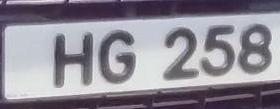2: (158, 21, 201, 86)
5: (199, 19, 234, 80)
8: (235, 17, 277, 79)
G: (94, 24, 143, 91)
H: (46, 27, 98, 94)
